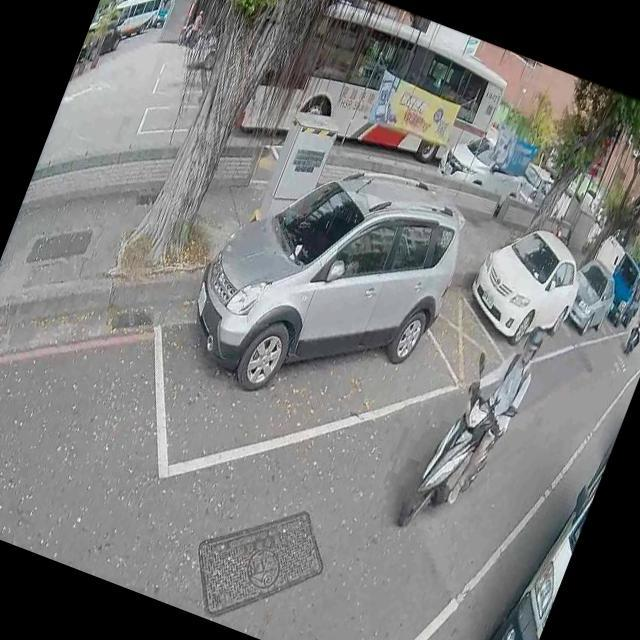person: (423, 304, 552, 518), (180, 2, 208, 49), (624, 300, 640, 348)
